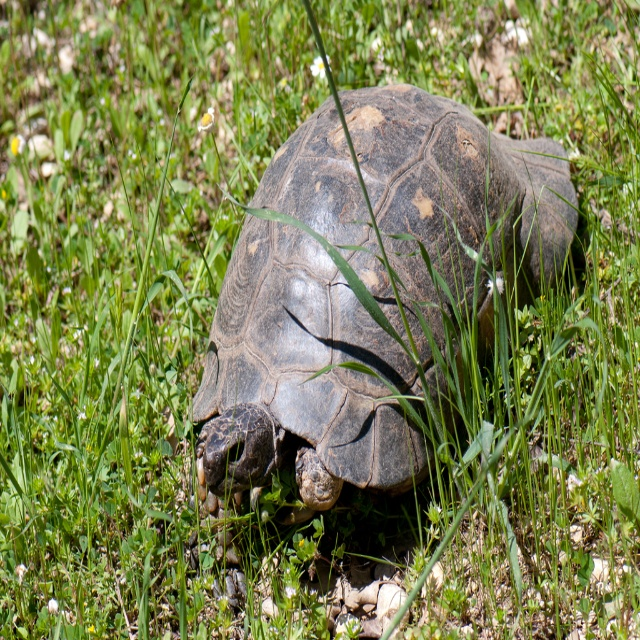Tortoise: (188, 83, 578, 511)
